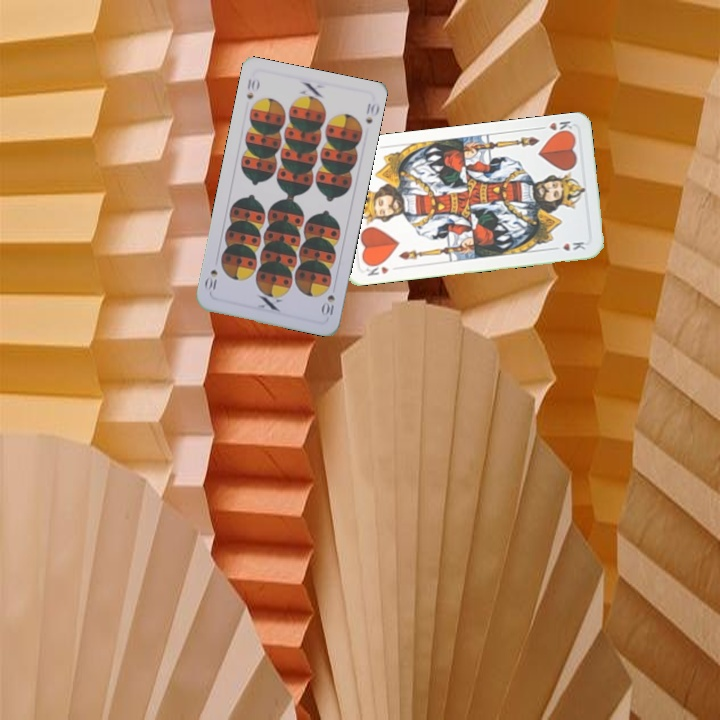HK: (534, 117, 575, 138), (362, 259, 391, 278)
S10: (318, 291, 337, 320), (243, 75, 262, 101)
